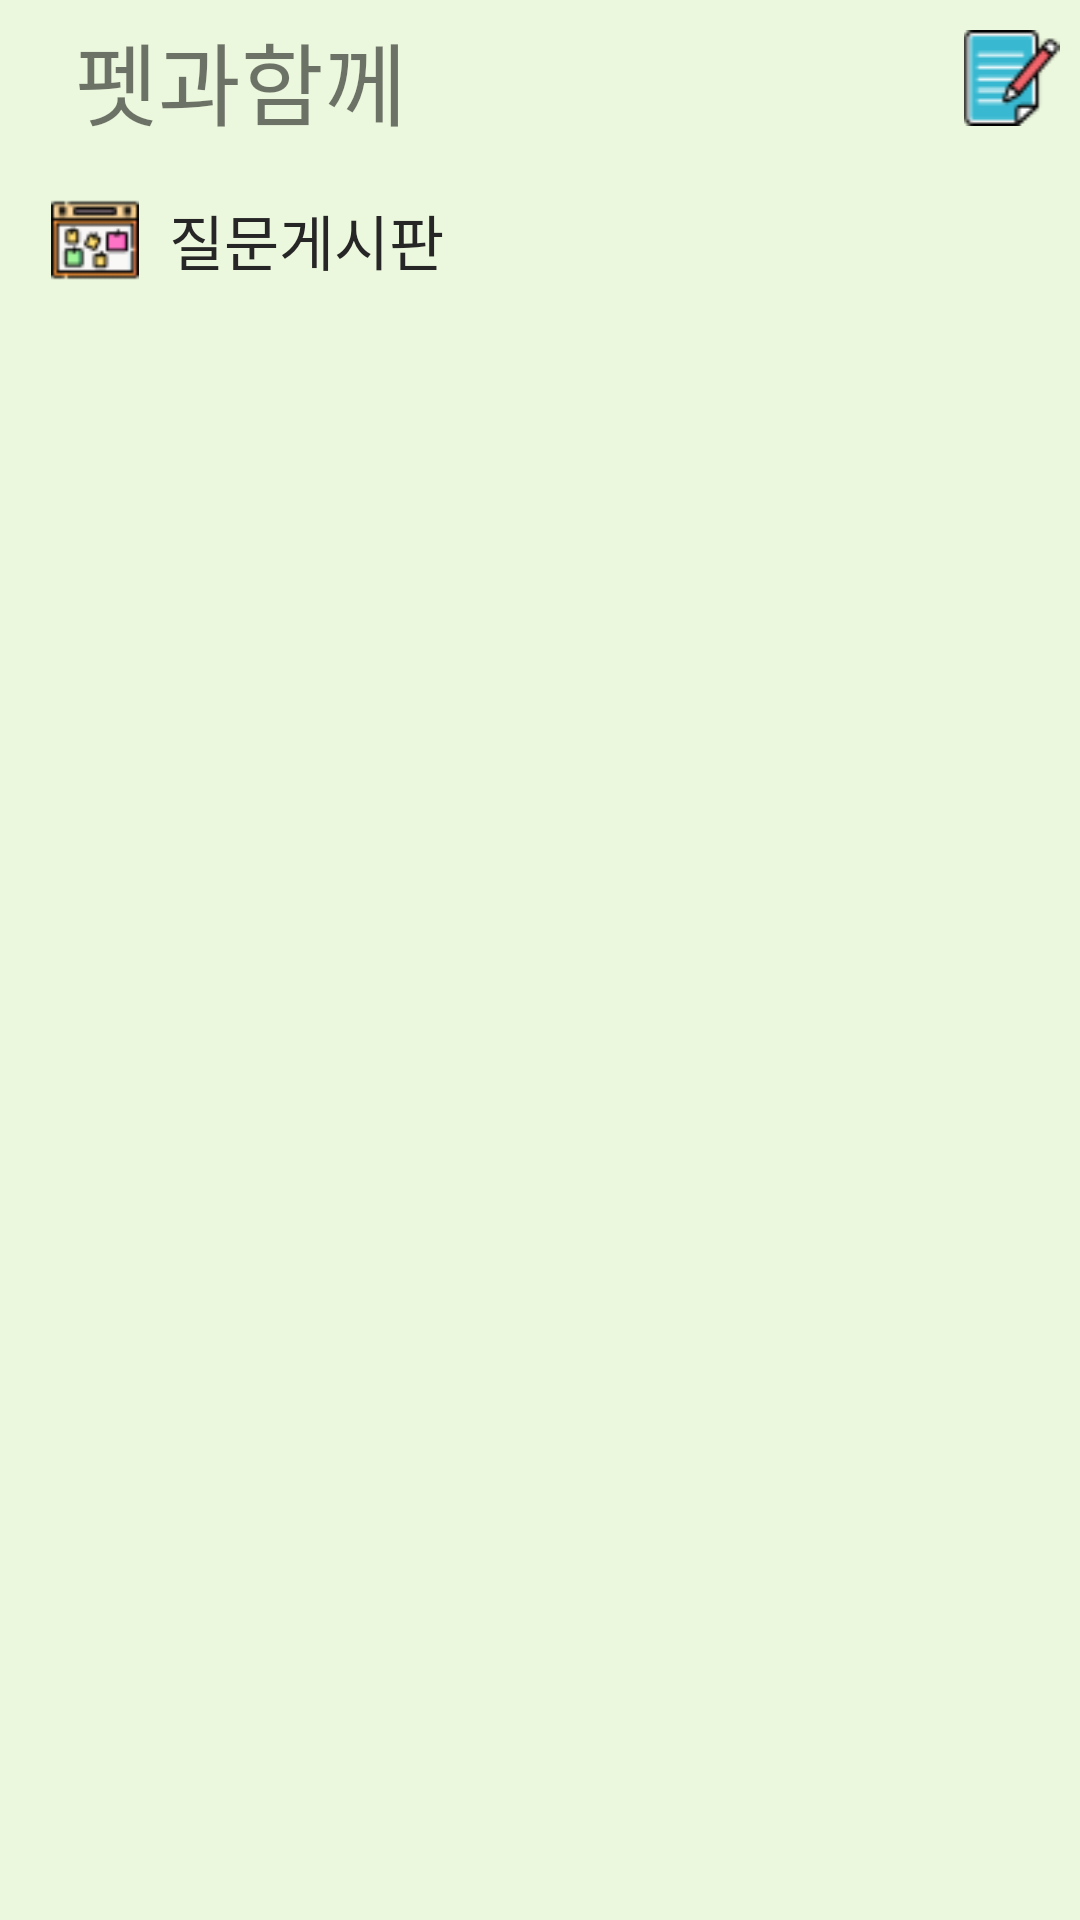

Point at icon controls on the screen. Image size 1080 x 1920, points as (x,y).
board: (95,240)
file: (1012,78)
